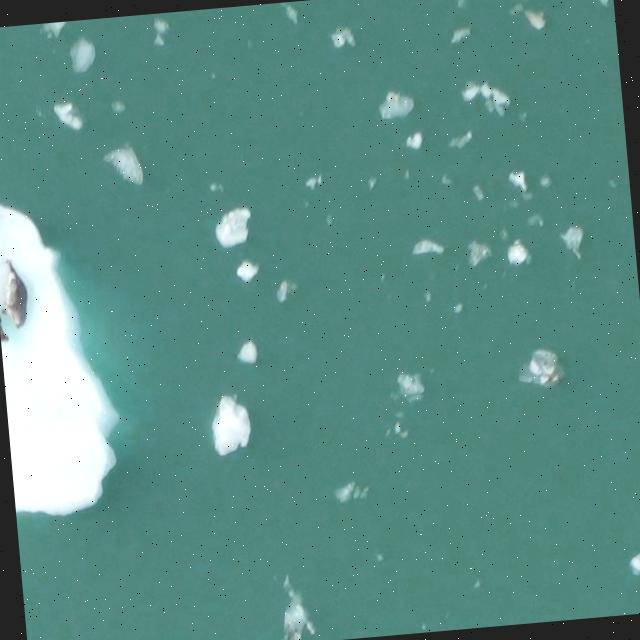seal: (1, 259, 30, 328)
